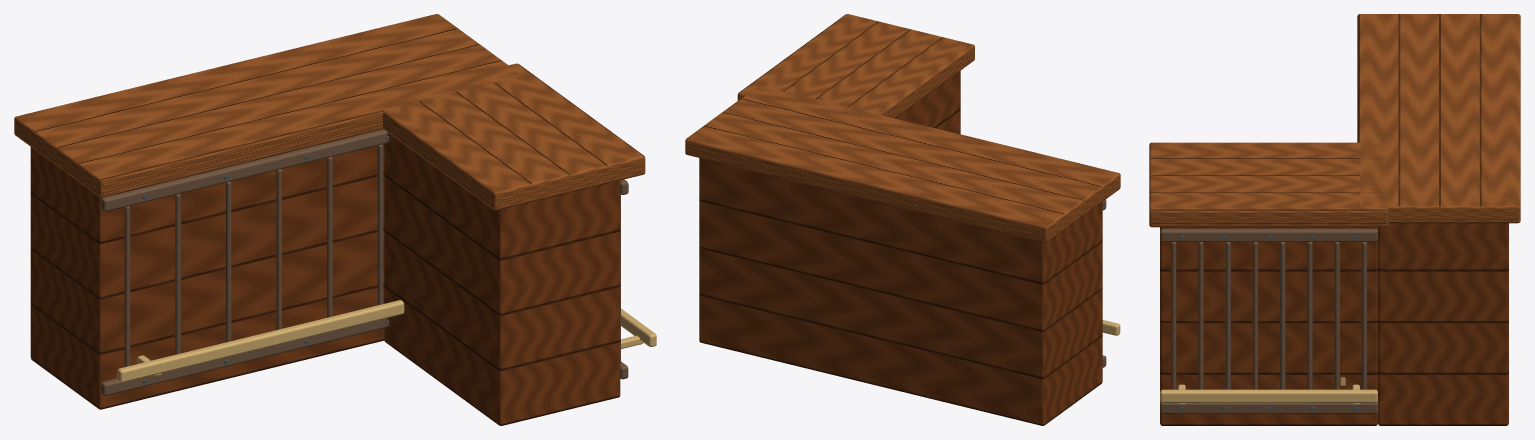
The model's file is adventurers-tavern-and-guild-hall-bar-counter-corner-fb17fd38__24696.glb.
3 renders of one model, left to right at view 1: azimuth 30°, elevation 25°; view 2: azimuth 150°, elevation 25°; view 3: azimuth 270°, elevation 25°, orthographic. The views are drawn at different scales.
Parts seen in each view (by area): view 1: bar-counter-corner; view 2: bar-counter-corner; view 3: bar-counter-corner.
Part boxes in pixels (<box>): bar-counter-corner: <box>14,14,656,425</box>; bar-counter-corner: <box>685,14,1120,425</box>; bar-counter-corner: <box>1149,14,1520,425</box>.
Bounding box in the file's own units: 2.23 × 1.14 × 1.71.
5 materials, 2 textured.
